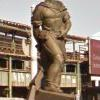Statue: (21, 5, 87, 97)
